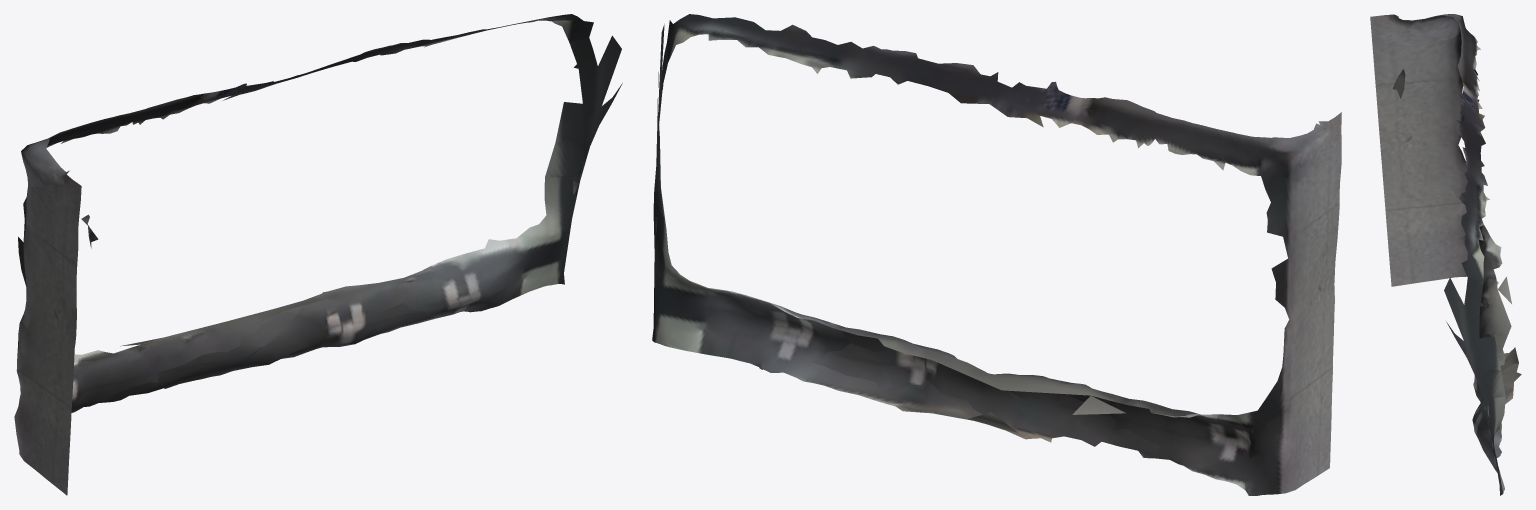
Rendered from 정문 좌우끝.fbx.
The picture shows the model from 3 angles, left to right: view 1: azimuth 30°, elevation 25°; view 2: azimuth 150°, elevation 25°; view 3: azimuth 270°, elevation 25°; orthographic projection. The views are drawn at different scales.
Parts seen in each view (by area): view 1: Untitled; view 2: Untitled; view 3: Untitled.
Boxes of the visible parts, x1,y1,x2,y2 form: Untitled: (14,14,622,495); Untitled: (652,14,1341,495); Untitled: (1370,14,1521,495).
Bounding box in the file's own units: 929 × 495 × 241.
Materials: 1 (1 with a texture image).
